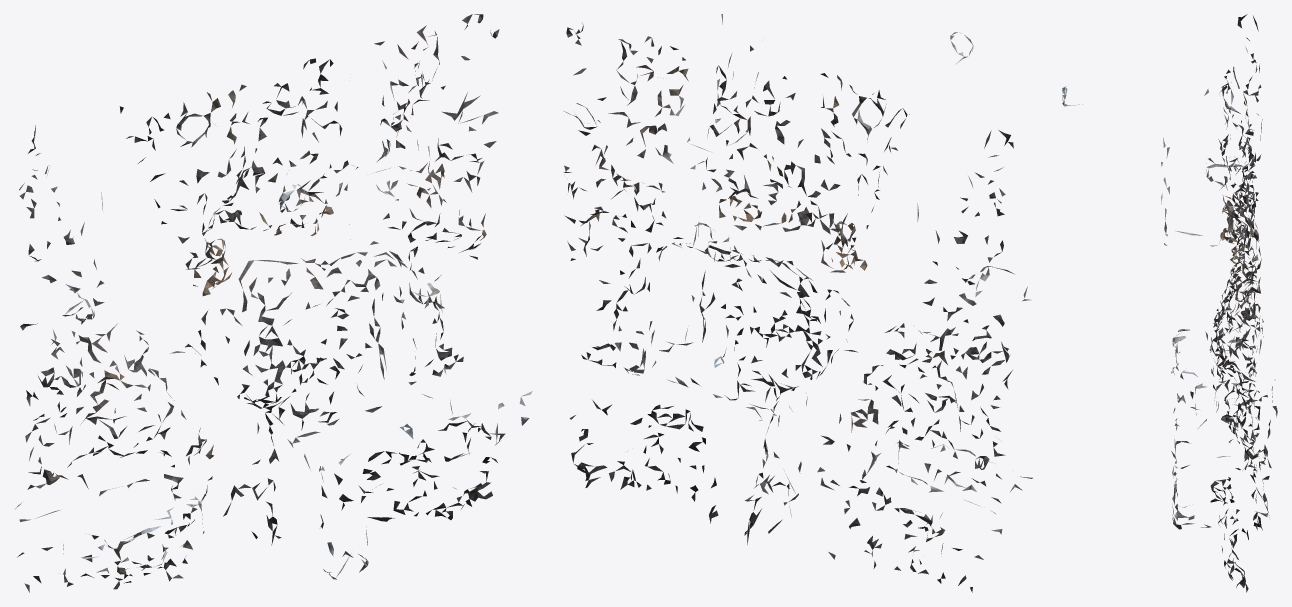
3 renders of one model, left to right at view 1: azimuth 30°, elevation 25°; view 2: azimuth 150°, elevation 25°; view 3: azimuth 270°, elevation 25°, orthographic. The views are drawn at different scales.
Bounding box in the file's own units: 6.72 × 6.8 × 3.24.
1 material, 1 textured.
